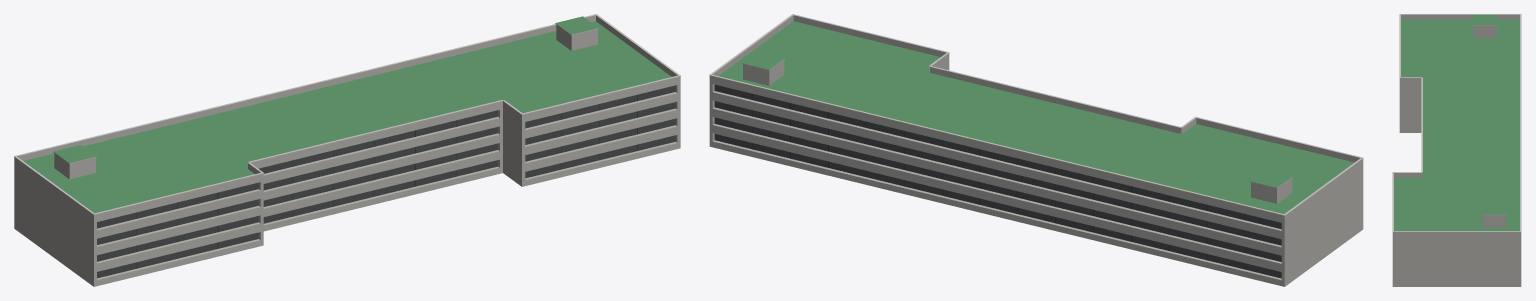
3 renders of one model, left to right at view 1: azimuth 30°, elevation 25°; view 2: azimuth 150°, elevation 25°; view 3: azimuth 270°, elevation 25°, orthographic. The views are drawn at different scales.
Visible parts, largest first — view 1: hospitalParking__roof, hospitalParking__wall, hospitalParking__glass, hospitalParking__parapet, hospitalParking__trim; view 2: hospitalParking__roof, hospitalParking__wall, hospitalParking__glass, hospitalParking__parapet, hospitalParking__trim; view 3: hospitalParking__roof, hospitalParking__wall, hospitalParking__parapet, hospitalParking__trim.
Boxes of the visible parts, left/top/right/bottom form: hospitalParking__roof: left=23, top=16, right=671, bottom=213; hospitalParking__wall: left=14, top=25, right=680, bottom=286; hospitalParking__glass: left=97, top=85, right=675, bottom=278; hospitalParking__parapet: left=14, top=15, right=680, bottom=220; hospitalParking__trim: left=14, top=14, right=680, bottom=214; hospitalParking__roof: left=718, top=21, right=1354, bottom=213; hospitalParking__wall: left=709, top=59, right=1363, bottom=286; hospitalParking__glass: left=714, top=84, right=1281, bottom=278; hospitalParking__parapet: left=709, top=15, right=1363, bottom=221; hospitalParking__trim: left=709, top=14, right=1363, bottom=215; hospitalParking__roof: left=1394, top=14, right=1519, bottom=230; hospitalParking__wall: left=1392, top=25, right=1521, bottom=286; hospitalParking__parapet: left=1392, top=14, right=1521, bottom=235; hospitalParking__trim: left=1392, top=14, right=1521, bottom=231.
Size of the model in its own units: 110 by 15 by 27.67.
